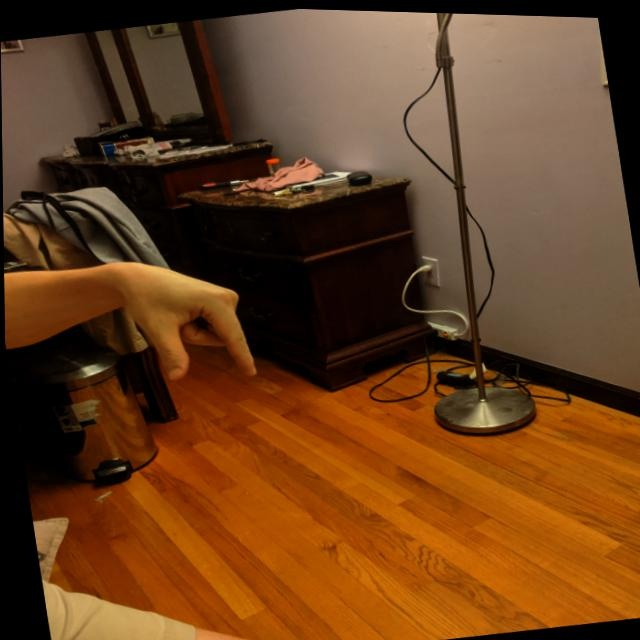Q: (112, 241, 263, 396)
